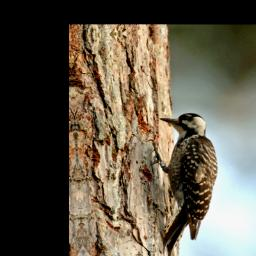Woodpecker: (145, 107, 225, 256)
